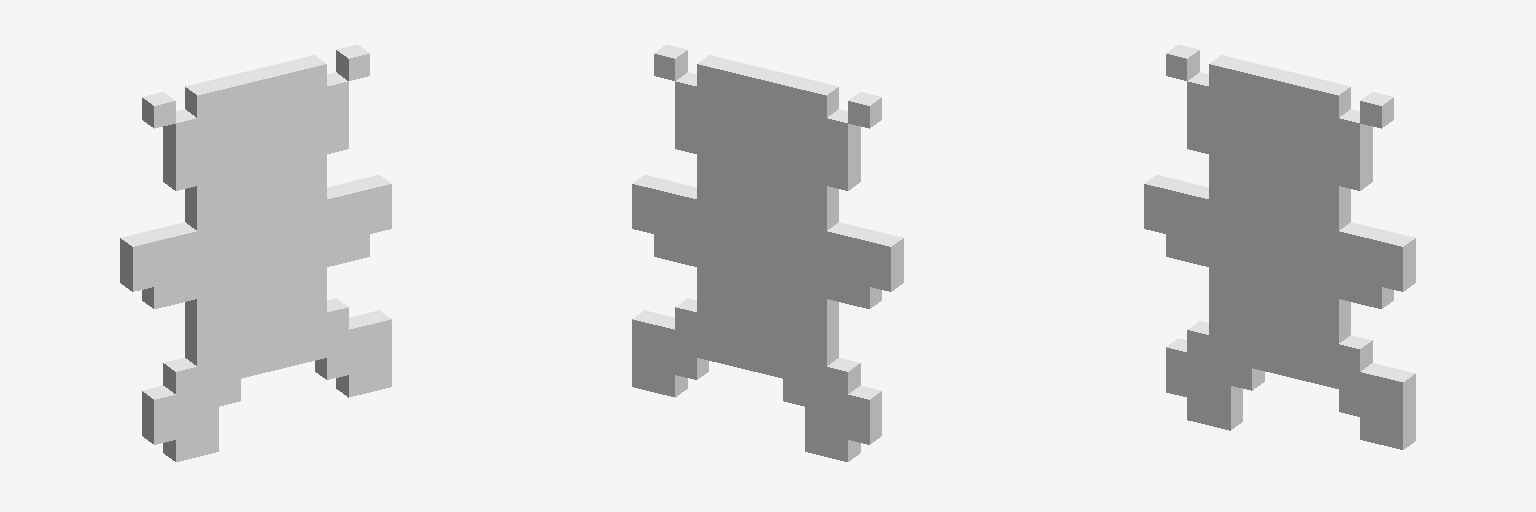
The model's file is Climb4.obj.
The picture shows the model from 3 angles: view 1: azimuth 30°, elevation 25°; view 2: azimuth 150°, elevation 25°; view 3: azimuth 330°, elevation 25°; orthographic projection.
Parts seen in each view (by area): view 1: object 1; view 2: object 1; view 3: object 1.
Part boxes in pixels (bbox=[...]): object 1: bbox=[120, 44, 391, 461]; object 1: bbox=[632, 44, 903, 461]; object 1: bbox=[1144, 44, 1415, 449].
Bounding box in the file's own units: 1.2 × 1.6 × 0.1.